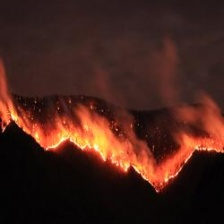fire: (1, 85, 224, 192)
